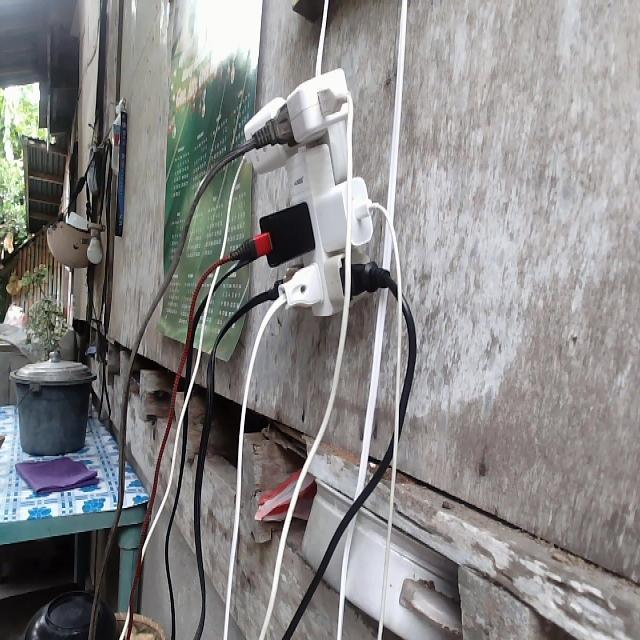-: (242, 63, 384, 317)
